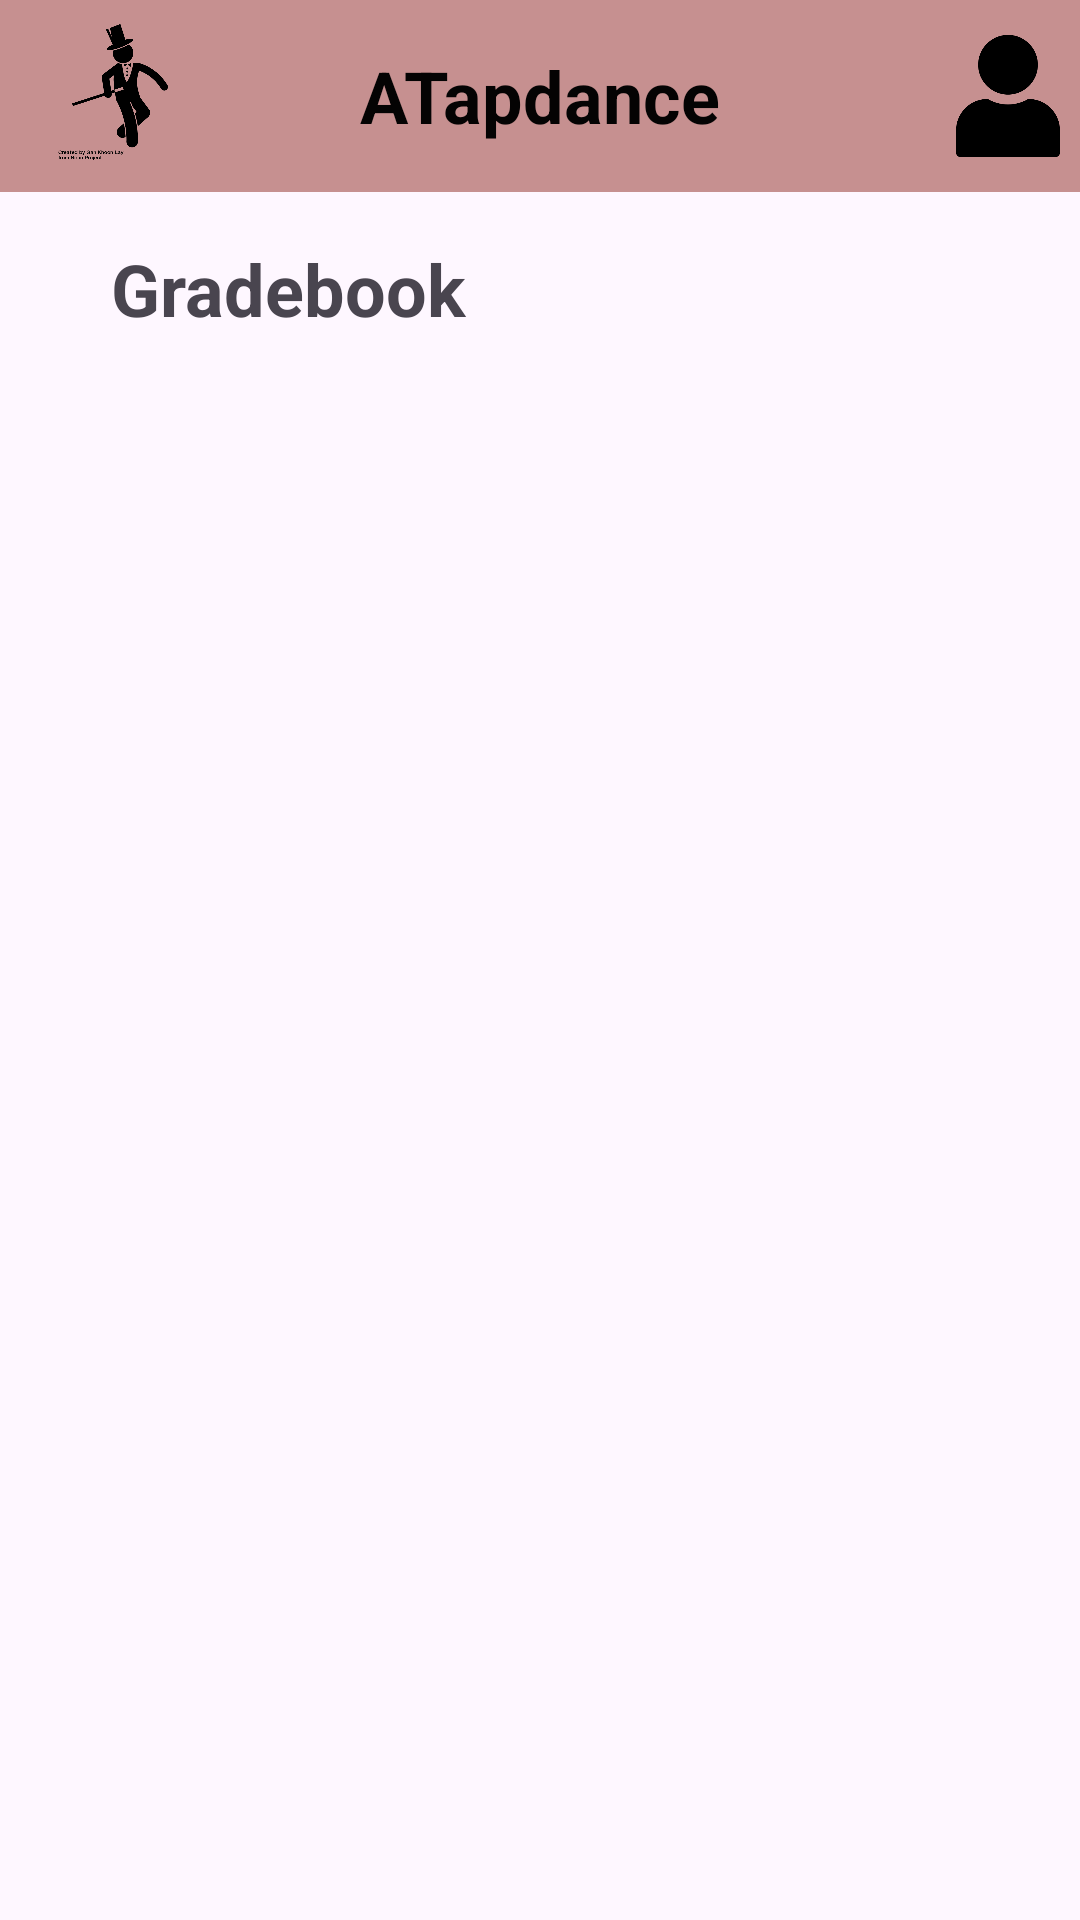

Where to tap for icons on this 1080px x 1920px app screen, as (x,y):
profile: (1008,96)
tap dance: (113,92)
